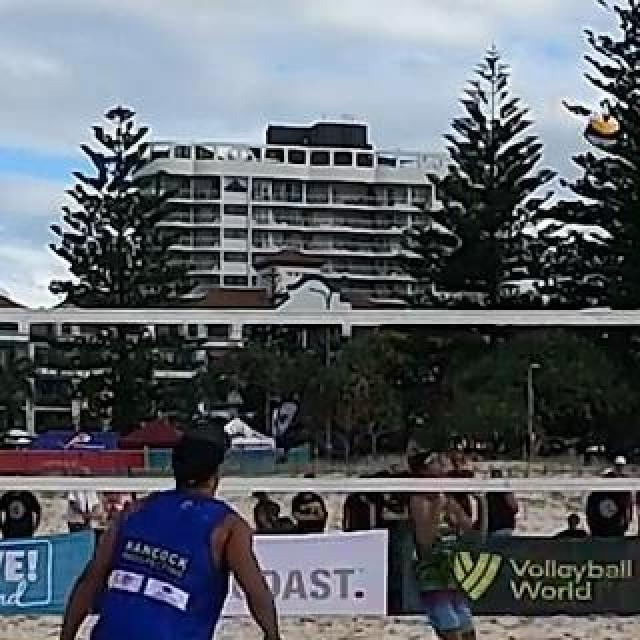volleyball: (587, 114, 619, 144)
